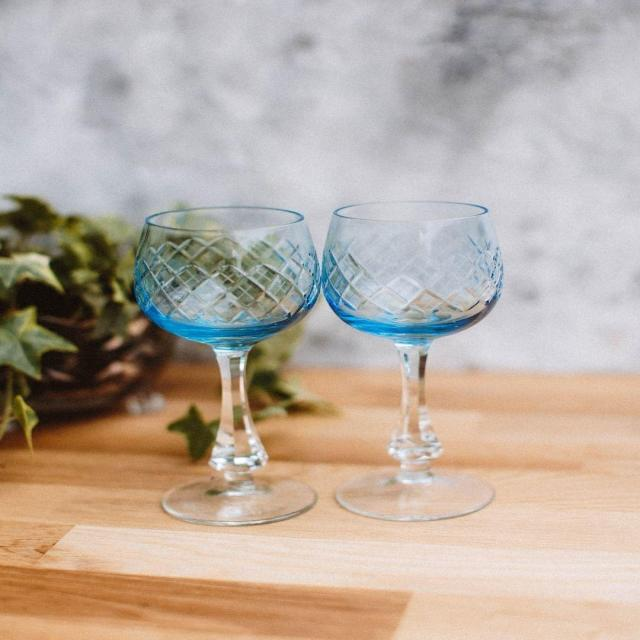glass-wine: (126, 203, 324, 529), (324, 196, 512, 524)
